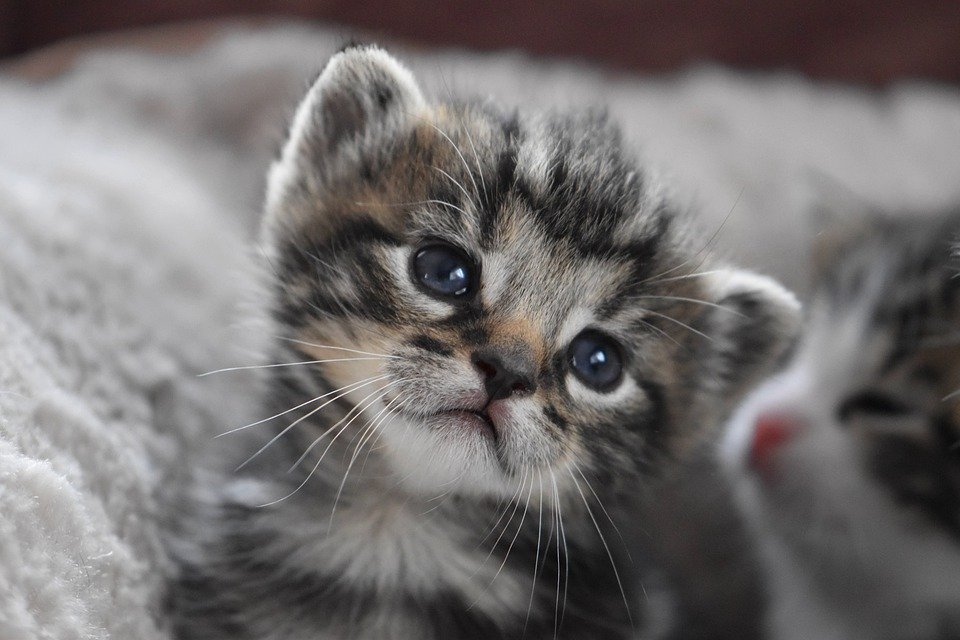cat-face: (196, 31, 809, 623)
